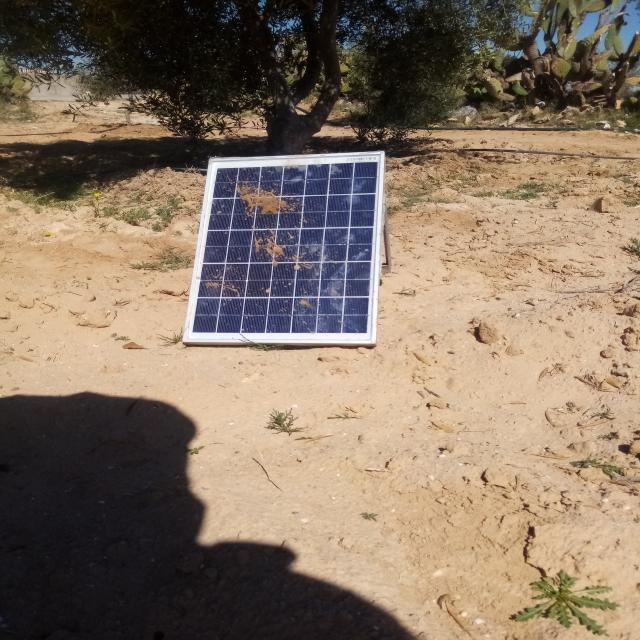faulty: (185, 152, 383, 343)
